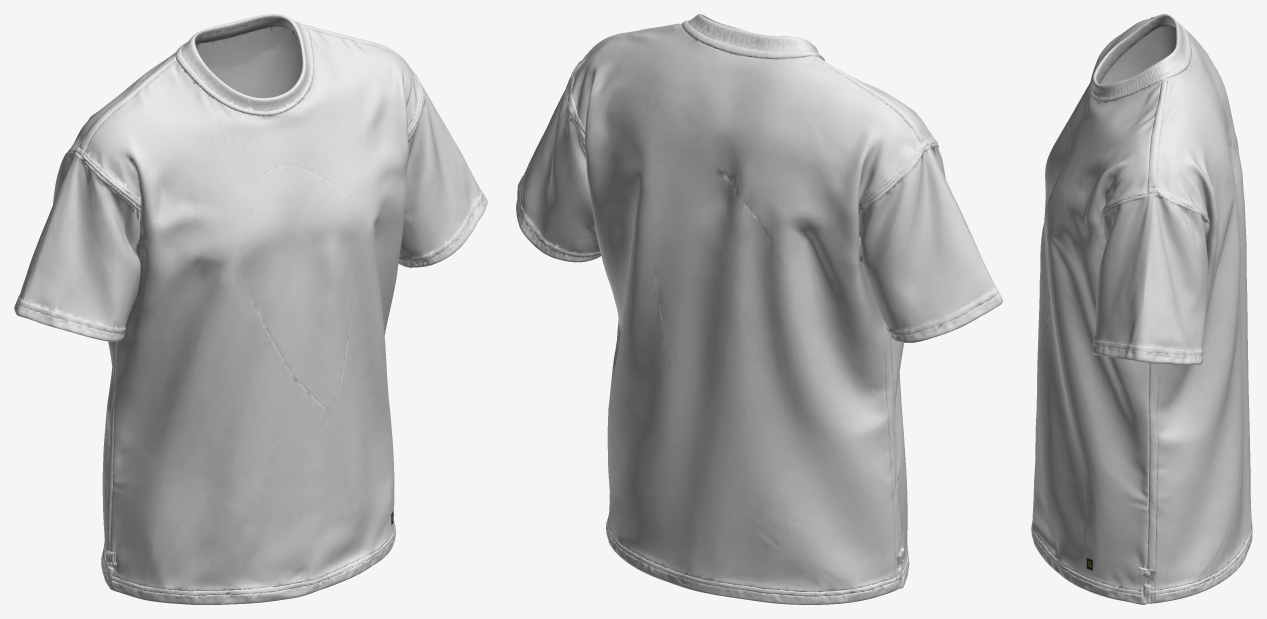
Rendered from tee-blank.glb.
3 views of the same model, side by side, from view 1: azimuth 30°, elevation 25°; view 2: azimuth 150°, elevation 25°; view 3: azimuth 270°, elevation 25° (orthographic). The views are drawn at different scales.
Visible parts, largest first — view 1: tripo_node_d051101e-0682-4a62-830b-194b7023bfcf; view 2: tripo_node_d051101e-0682-4a62-830b-194b7023bfcf; view 3: tripo_node_d051101e-0682-4a62-830b-194b7023bfcf.
Boxes of the visible parts, <box> form: tripo_node_d051101e-0682-4a62-830b-194b7023bfcf: <box>14,14,487,604</box>; tripo_node_d051101e-0682-4a62-830b-194b7023bfcf: <box>516,14,1002,604</box>; tripo_node_d051101e-0682-4a62-830b-194b7023bfcf: <box>1031,14,1252,604</box>.
Size of the model in its own units: 0.7388 by 0.7854 by 0.3121.
Materials: 1 (1 with a texture image).
